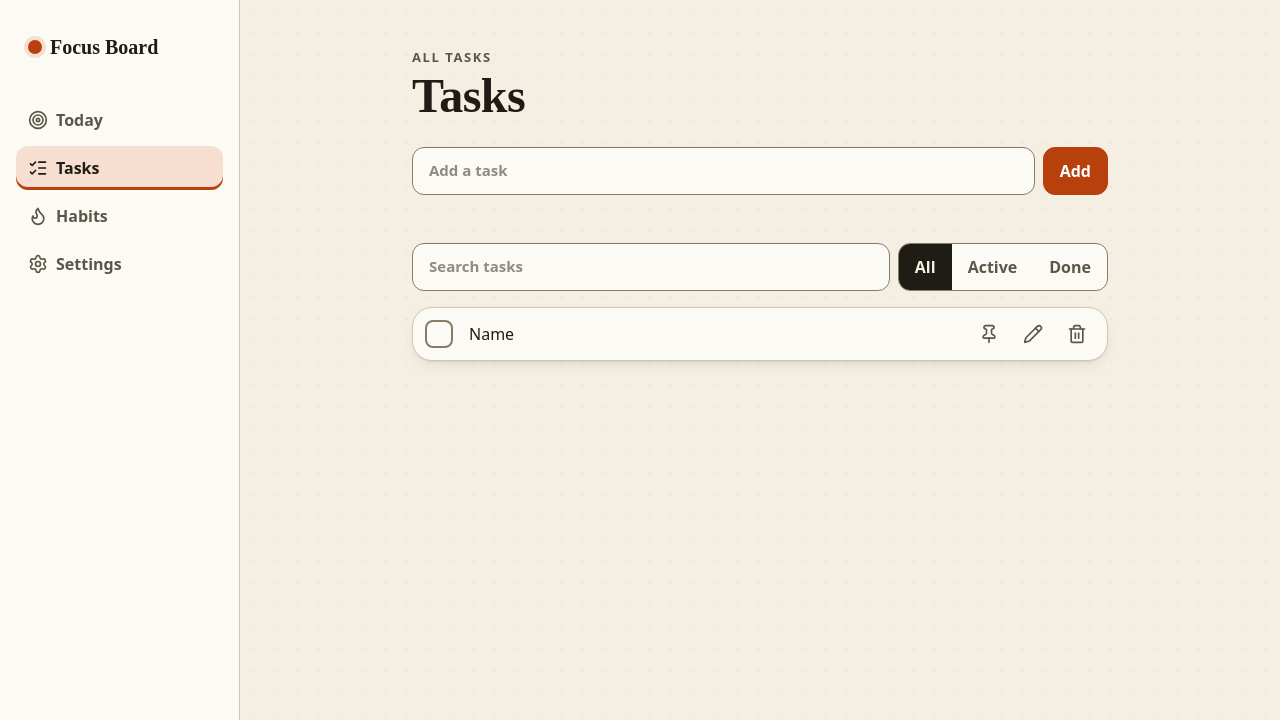
AC3: editing tasks › refuses an empty title on Enter and shows an error
This screenshot has width=1280, height=720.
Click the button named "Edit “Name”" at (1033, 334), box [1011,312,1055,356]
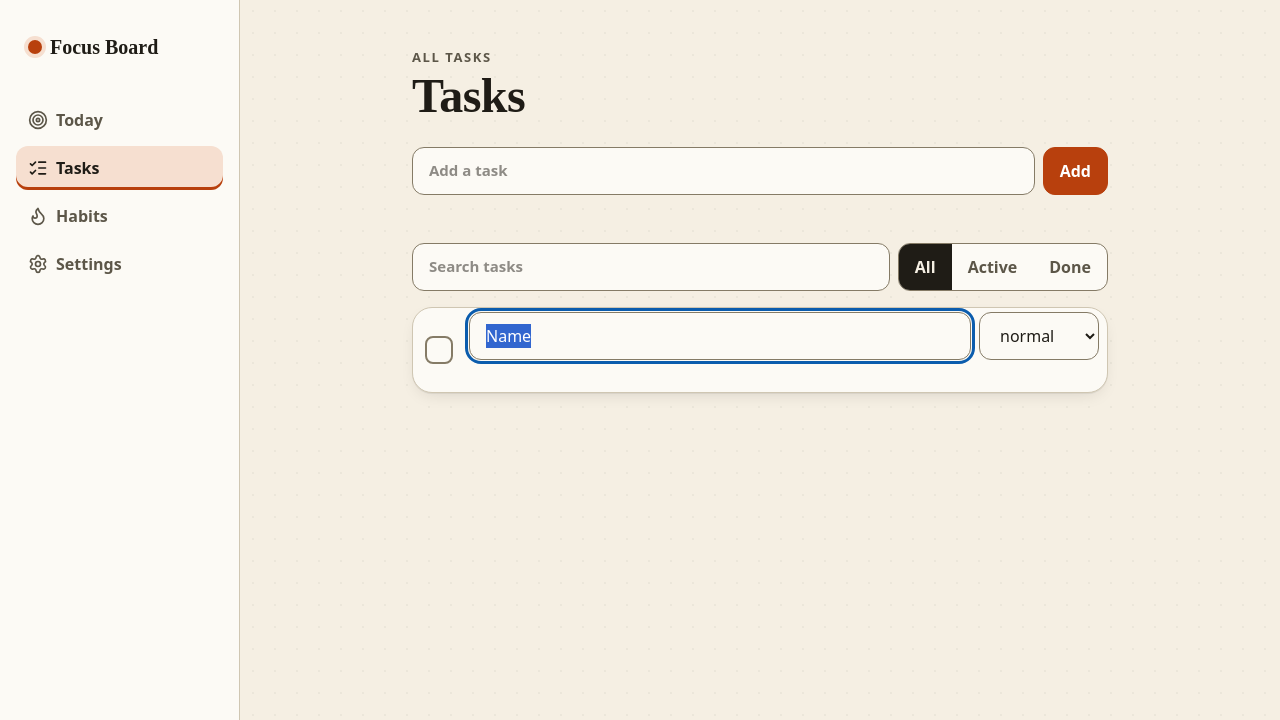
Clear the field named "Task title" at (720, 336), box [469,312,971,360]
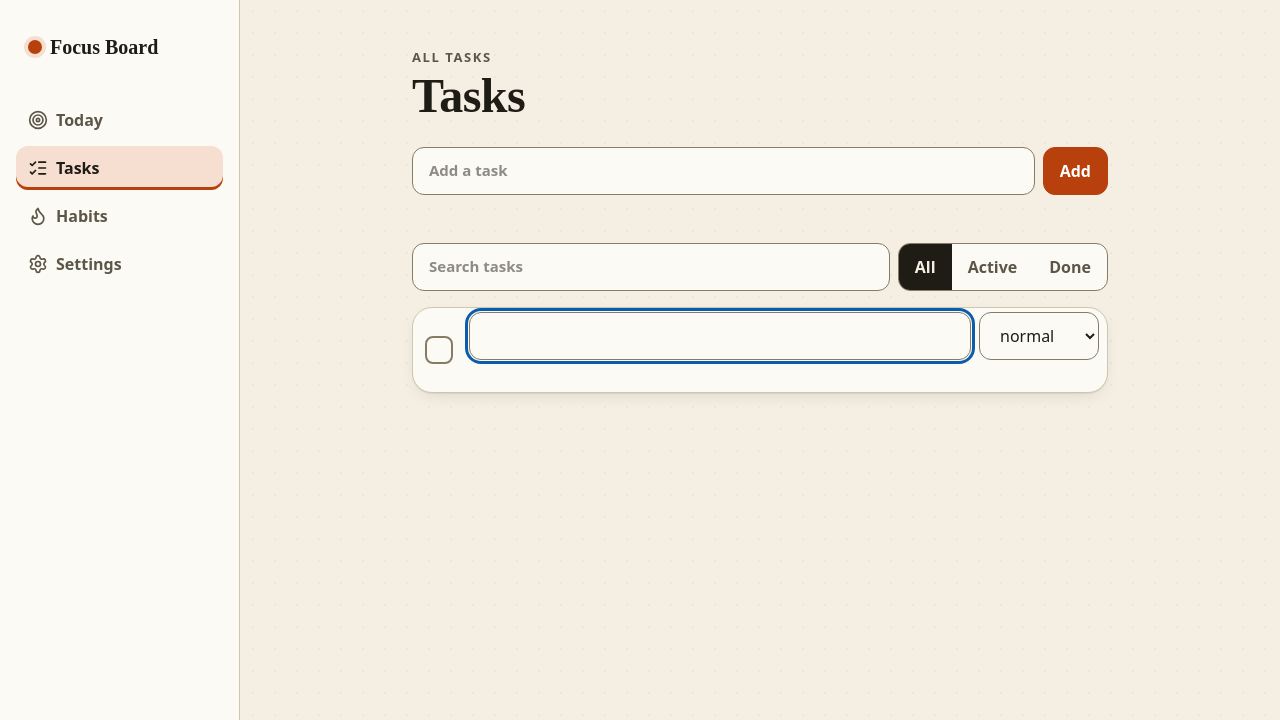
Press Enter
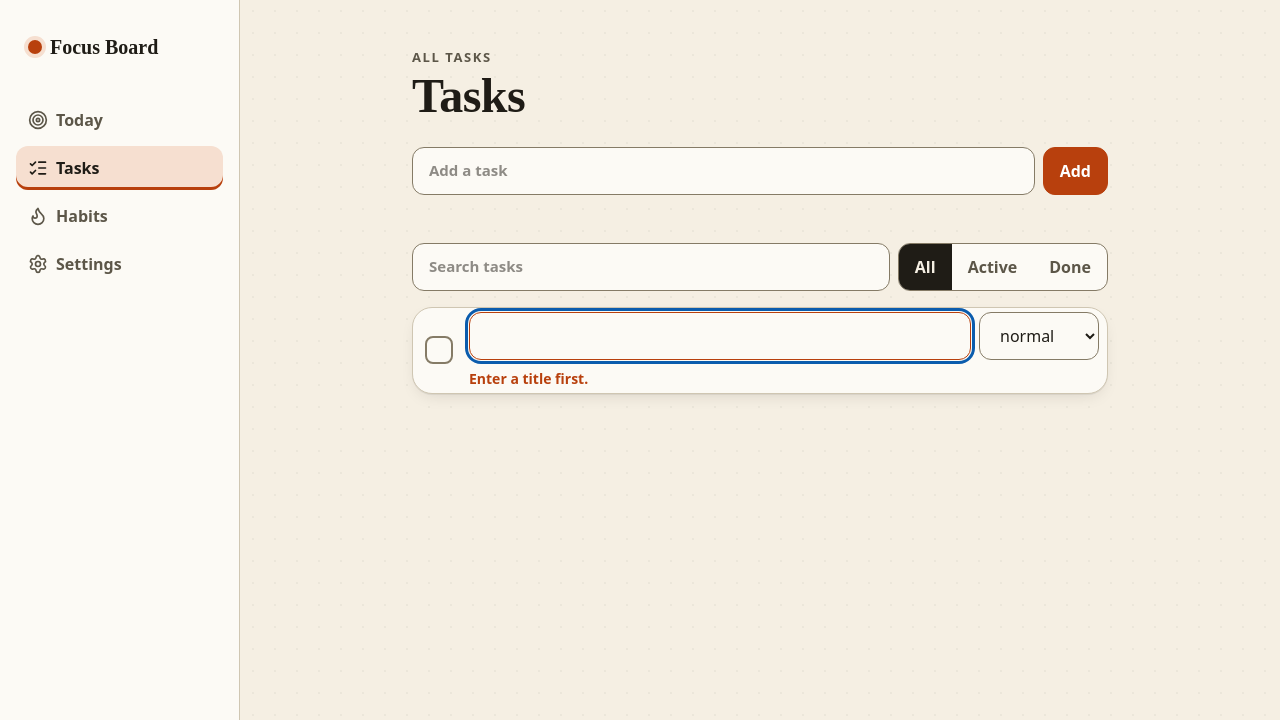
expect the text "Enter a title first." is shown: met, box [469,369,588,388]
